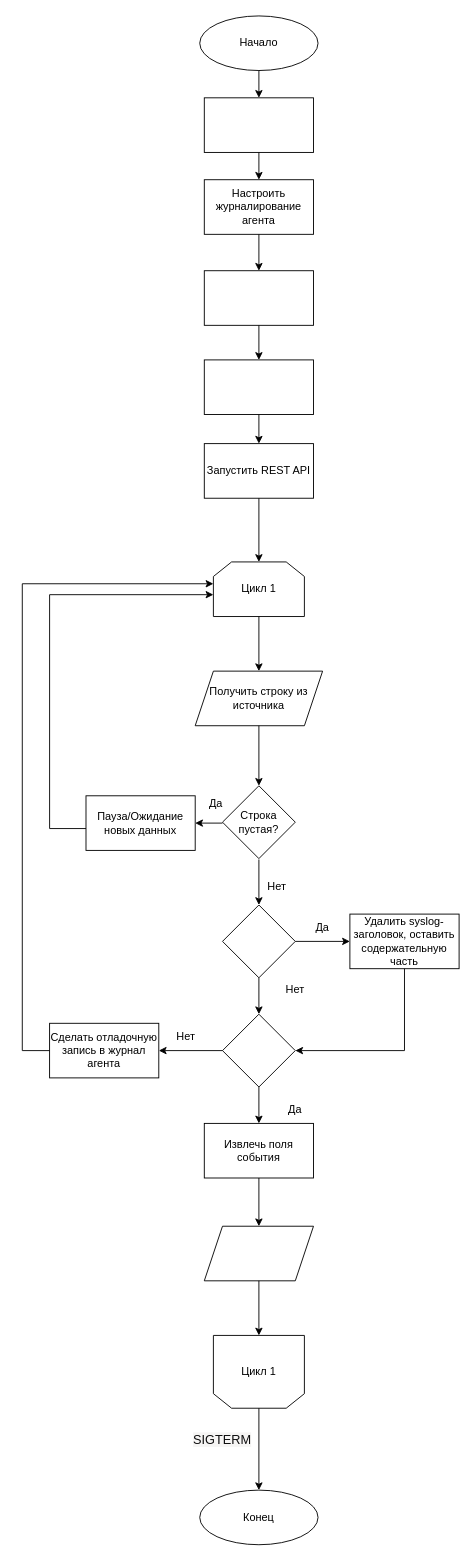
The diagram is 475 pixels wide and 1561 high, and some of its shapes have lost their labels. Each missing label, with the box of its shape:
Записать событие в базу данных: (203, 1225, 313, 1281)
Запустить фоновые потоки: (203, 359, 313, 415)
Инициализировать базу данных: создать таблицу событий и индекс: (203, 270, 313, 325)
Строка содержит syslog-заголовок?: (222, 904, 295, 978)
Строка соответствует шаблону формата?: (222, 1013, 295, 1087)
Считать параметры конфигурации из среды выполнения: (203, 97, 313, 152)
